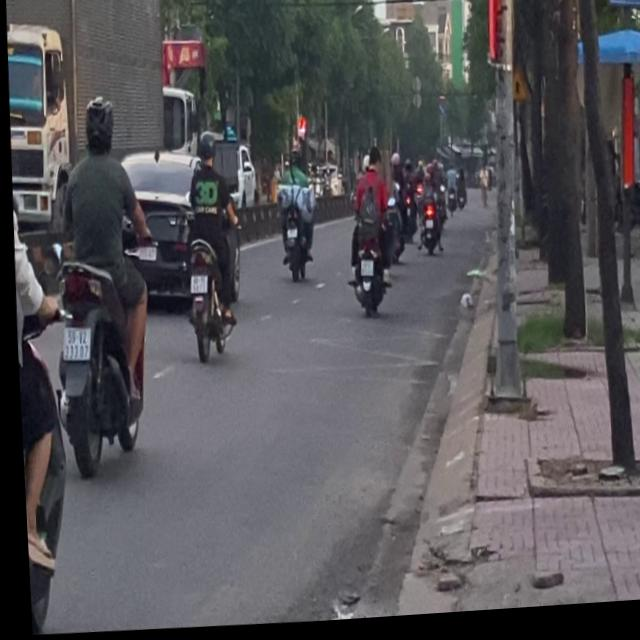helmet: (78, 93, 114, 156), (194, 132, 214, 169)
licenseplate: (35, 88, 159, 485), (174, 128, 241, 365)
nohelmet: (57, 327, 86, 359), (185, 275, 203, 294)
